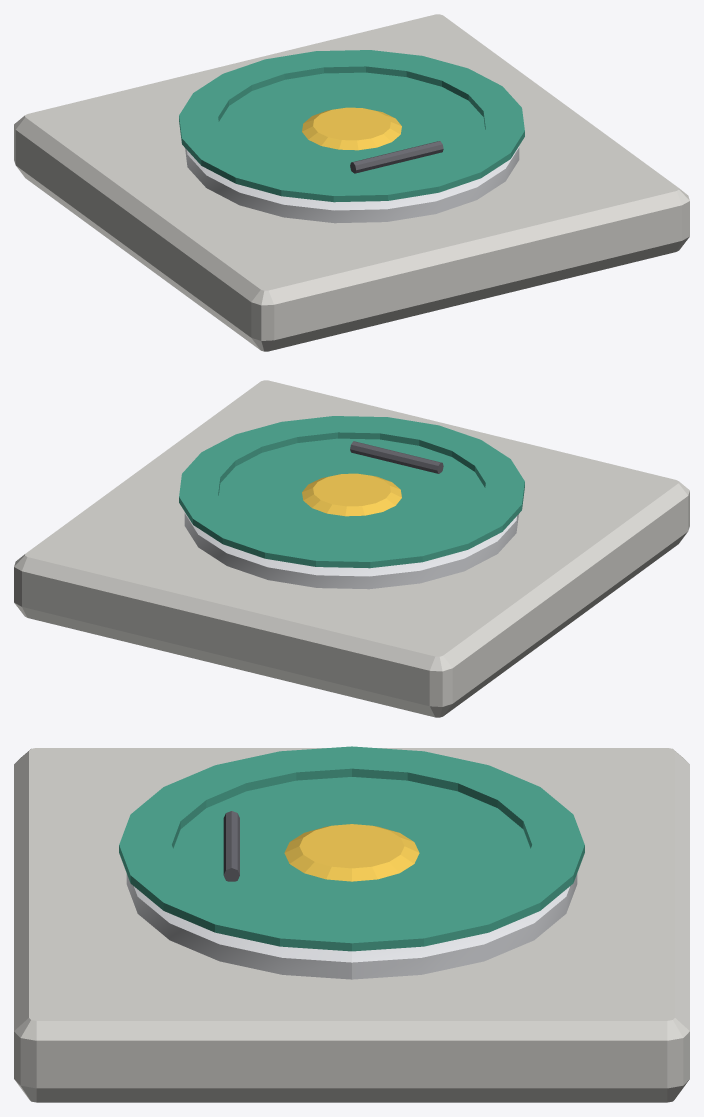
The model's file is petrol-station-and-forecourt-shop-tanker-fill-point-co-a2a23449__33954.glb.
The picture shows the model from 3 angles, top to bottom: view 1: azimuth 30°, elevation 25°; view 2: azimuth 150°, elevation 25°; view 3: azimuth 270°, elevation 25°; orthographic projection. The views are drawn at different scales.
Parts seen in each view (by area): view 1: tanker-fill-point-cover, fill-cover/accent, fill-cover/metal, fill-cover/dark; view 2: tanker-fill-point-cover, fill-cover/accent, fill-cover/metal, fill-cover/dark; view 3: tanker-fill-point-cover, fill-cover/accent, fill-cover/metal, fill-cover/dark.
Boxes of the visible parts, x1,y1,x2,y2 form: tanker-fill-point-cover: (14, 14, 689, 351); fill-cover/accent: (179, 50, 524, 202); fill-cover/metal: (185, 146, 519, 223); fill-cover/dark: (350, 141, 443, 173); tanker-fill-point-cover: (14, 380, 689, 717); fill-cover/accent: (179, 416, 524, 568); fill-cover/metal: (184, 512, 518, 589); fill-cover/dark: (350, 441, 443, 473); tanker-fill-point-cover: (14, 748, 689, 1102); fill-cover/accent: (119, 746, 584, 951); fill-cover/metal: (126, 874, 577, 979); fill-cover/dark: (223, 811, 239, 881).
Bounding box in the file's own units: 0.9 × 0.186 × 0.9.
